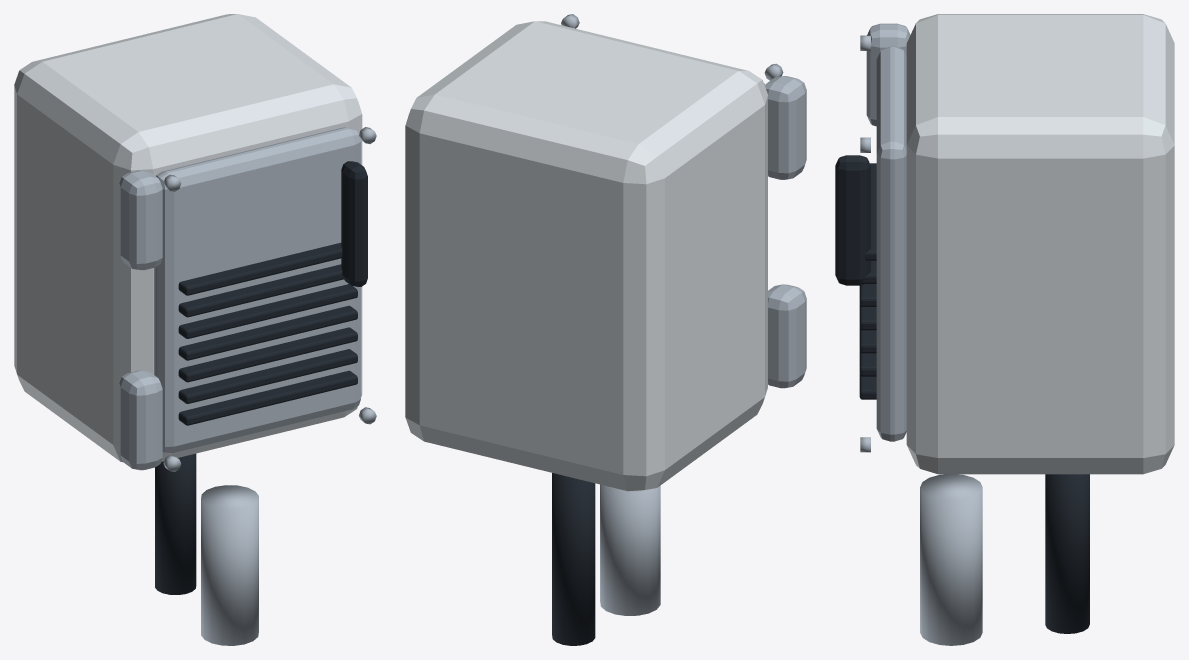
3 renders of one model, left to right at view 1: azimuth 30°, elevation 25°; view 2: azimuth 150°, elevation 25°; view 3: azimuth 270°, elevation 25°, orthographic. The views are drawn at different scales.
Visible parts, largest first — view 1: no2, Gasketed access door, Ventilation louvre; view 2: no2, Gasketed access door, Ventilation louvre; view 3: no2, Gasketed access door, Ventilation louvre.
Part boxes in pixels (<box>): no2: <box>14,14,362,462</box>; Gasketed access door: <box>119,127,376,645</box>; Ventilation louvre: <box>155,161,367,594</box>; no2: <box>405,21,767,491</box>; Gasketed access door: <box>561,14,806,615</box>; Ventilation louvre: <box>552,473,595,645</box>; no2: <box>906,14,1174,474</box>; Gasketed access door: <box>860,23,982,645</box>; Ventilation louvre: <box>835,155,1089,633</box>.
Size of the model in its own units: 0.3557 by 0.7 by 0.38.
